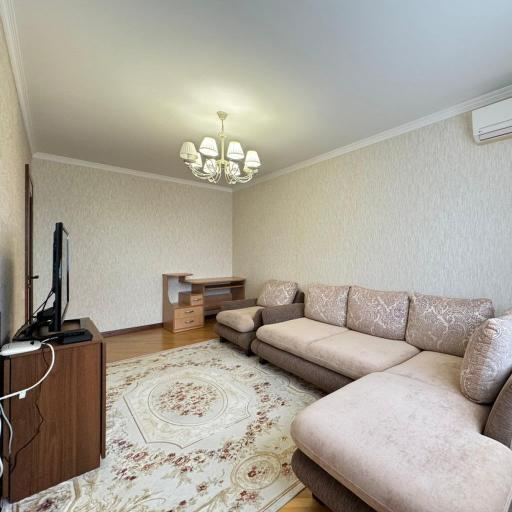sidewalk: (252, 284, 511, 511), (214, 280, 304, 355)
stroller: (166, 276, 255, 338)
